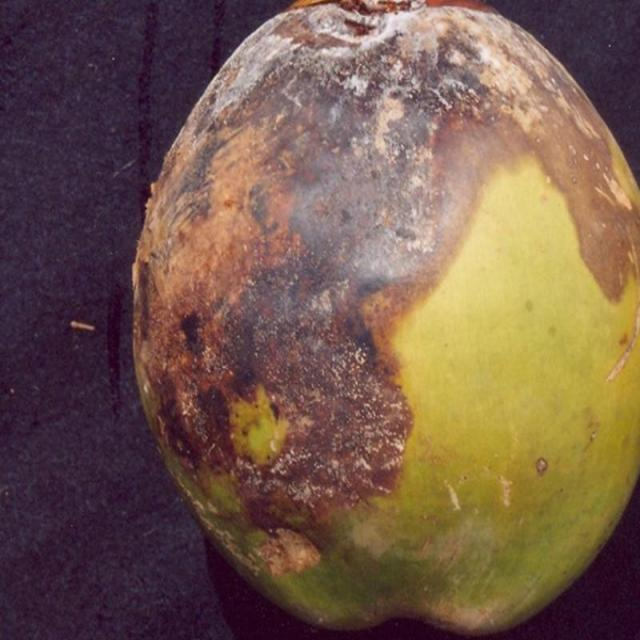damaged: (130, 0, 639, 639)
